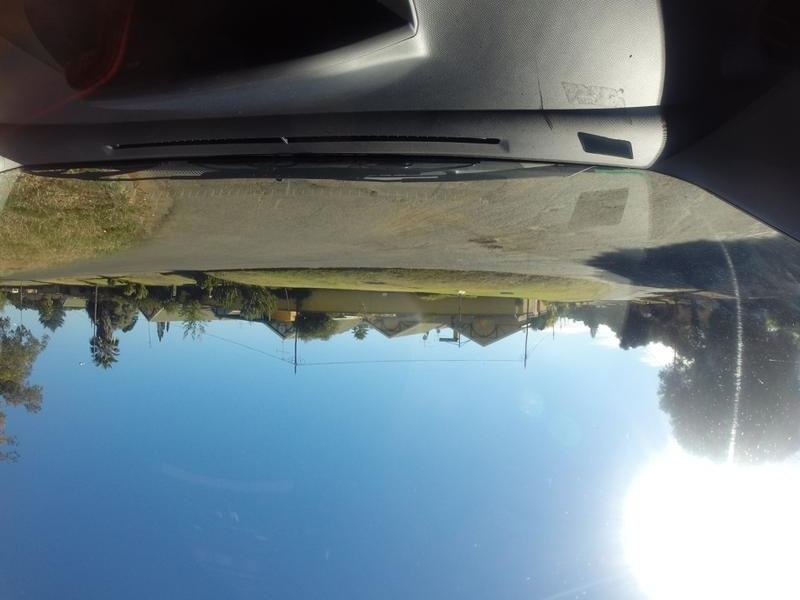pothole: (463, 220, 516, 266)
